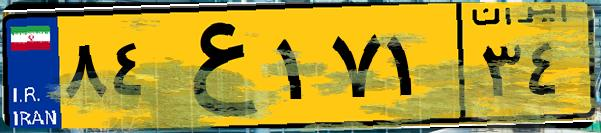1: (270, 28, 330, 110), (385, 28, 445, 110)
3: (475, 38, 525, 113)
4: (525, 38, 570, 115), (110, 28, 158, 98)
7: (330, 28, 385, 110)
8: (57, 26, 110, 100)
ع: (158, 12, 270, 120)
